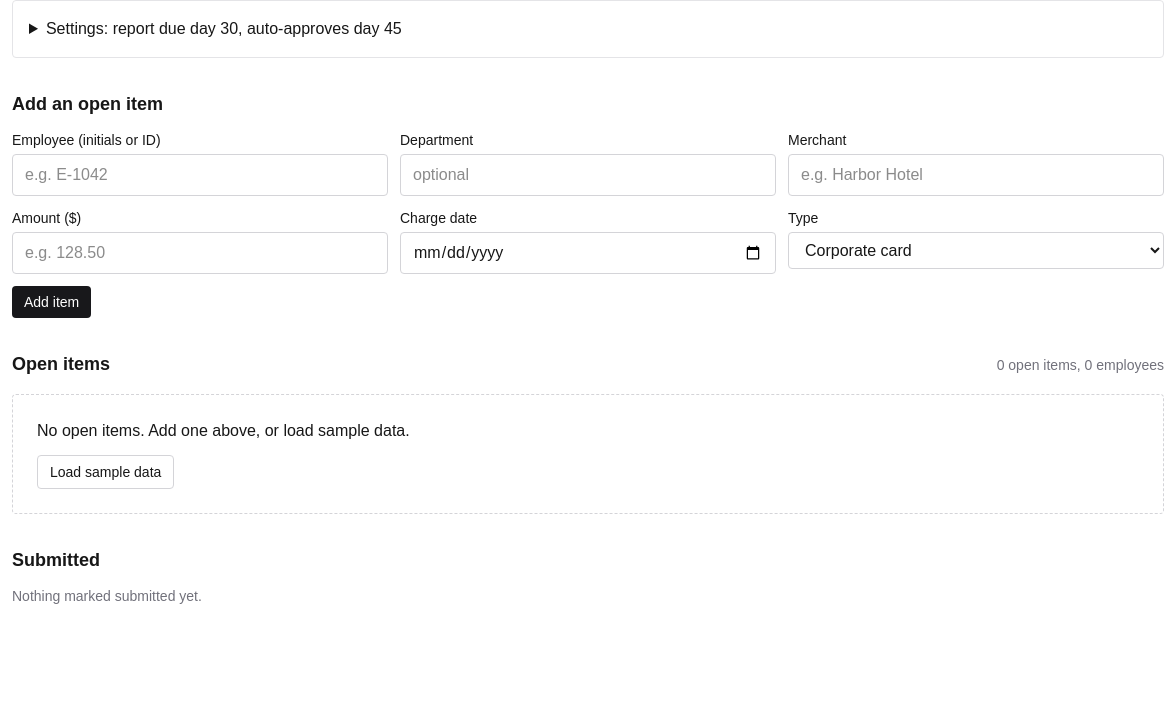
Test case: Tracker › writes a reminder and reports a failed copy (S2 criteria 1 and 5)
The image size is (1176, 720).
Expected: the heading "Add an open item" is shown, [12, 94, 163, 114]
In the field labelled "Employee (initials or ID)": x=200, y=175 [12, 154, 388, 196], type "E-7"
In the field labelled "Merchant": x=976, y=175 [788, 154, 1164, 196], type "Harbor Hotel"
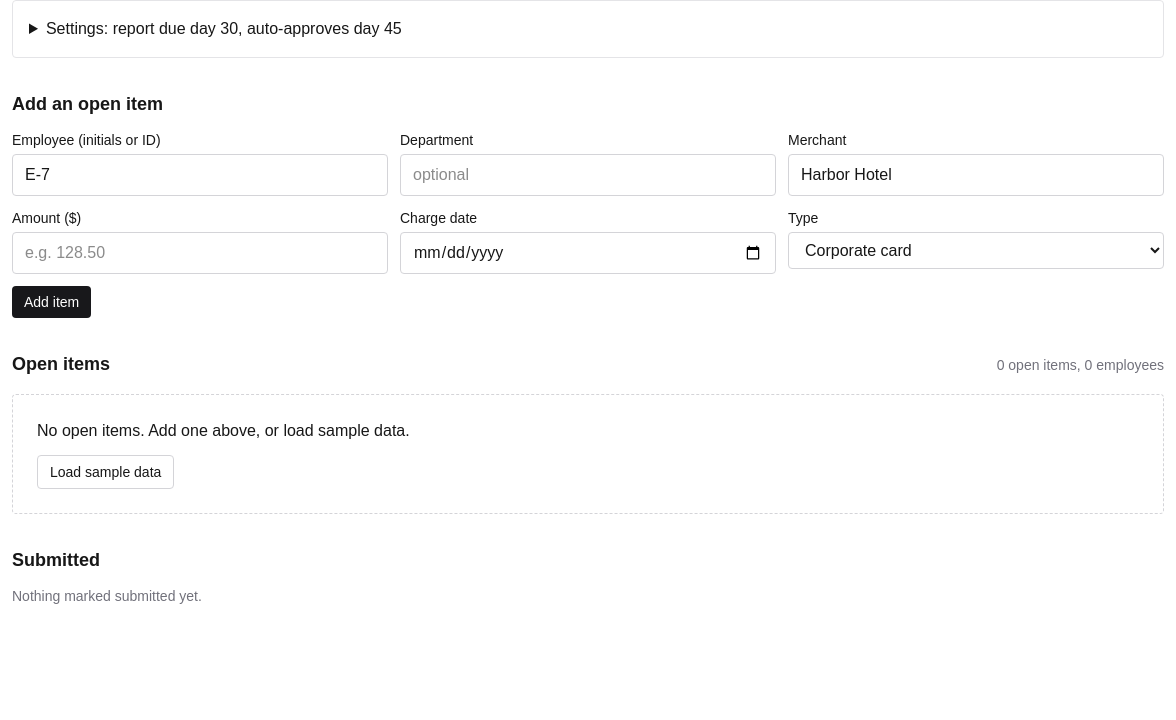
In the field labelled "Amount ($)": x=200, y=253 [12, 232, 388, 274], type "412.80"
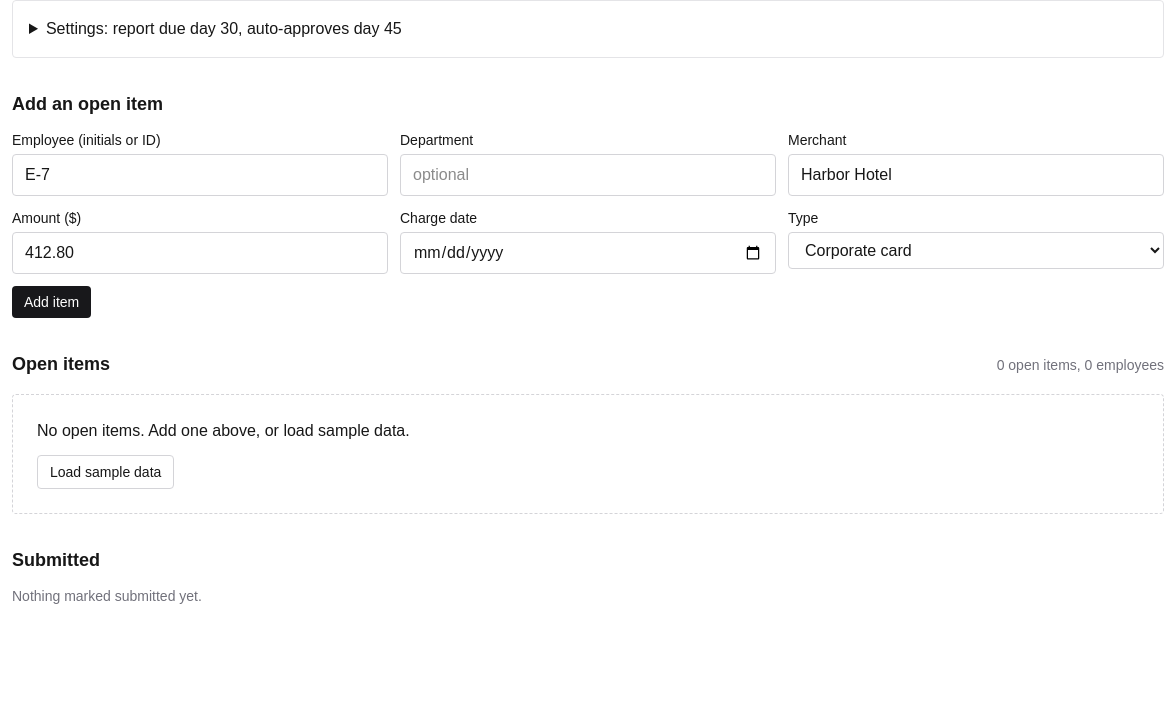
In the date field labelled "Charge date": x=588, y=253 [400, 232, 776, 274], type "2026-10-09"
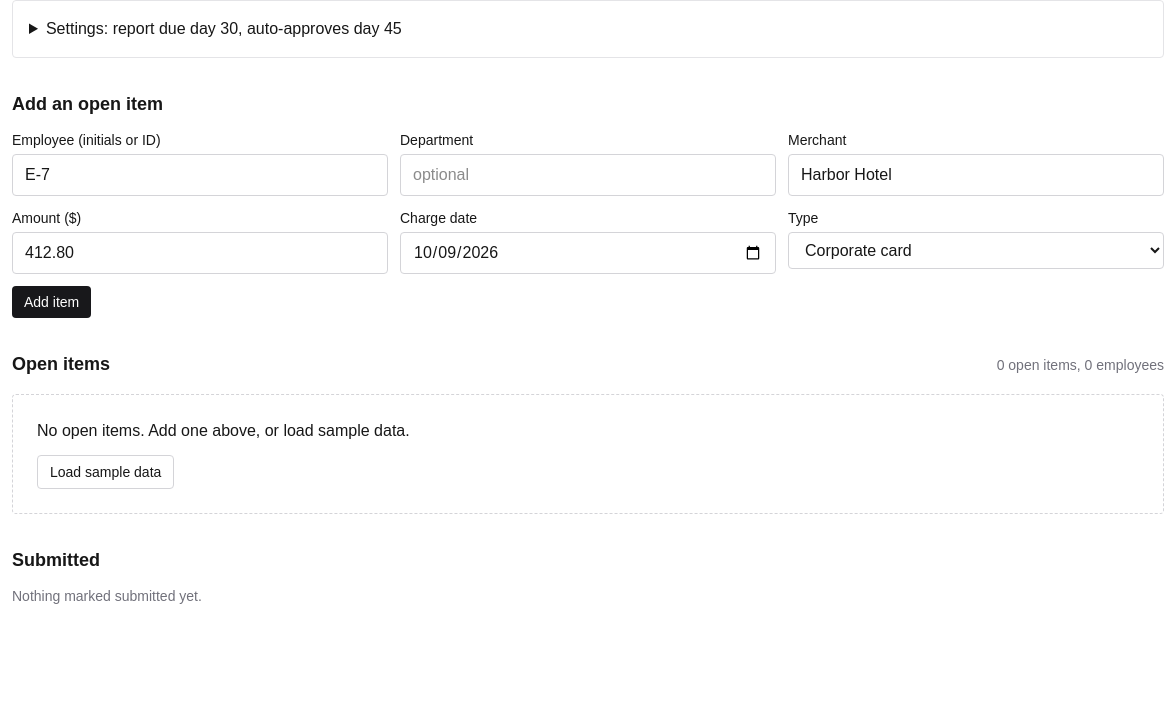
Click the button "Add item": x=52, y=302 [12, 286, 91, 318]
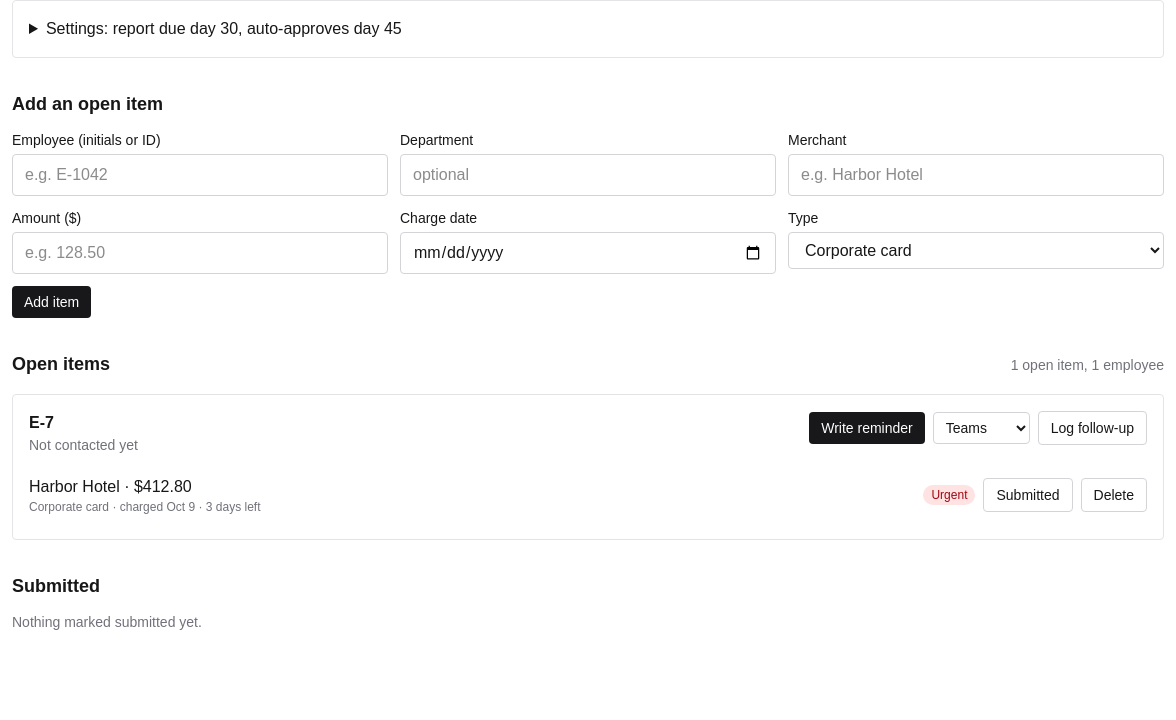
Result: the text "Harbor Hotel · $412.80" is shown at [29, 478, 192, 495]
Click the button "Write reminder": x=867, y=428 [809, 412, 925, 444]
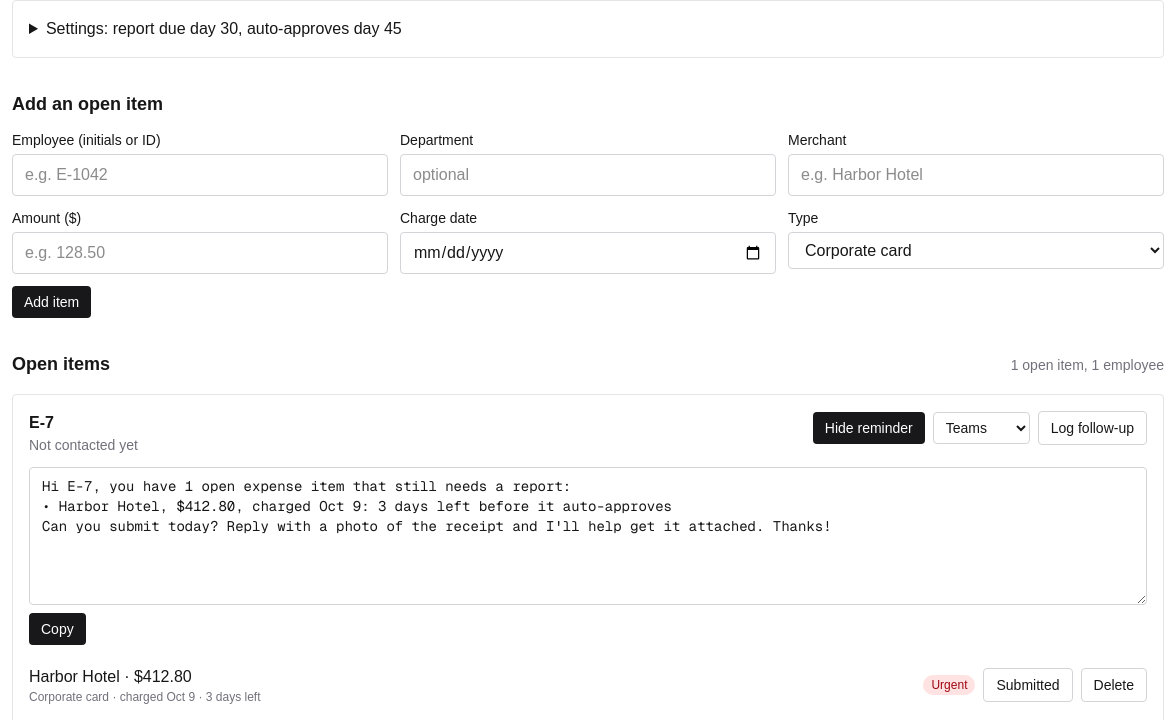
Click the button "Copy": x=57, y=629 [29, 613, 86, 645]
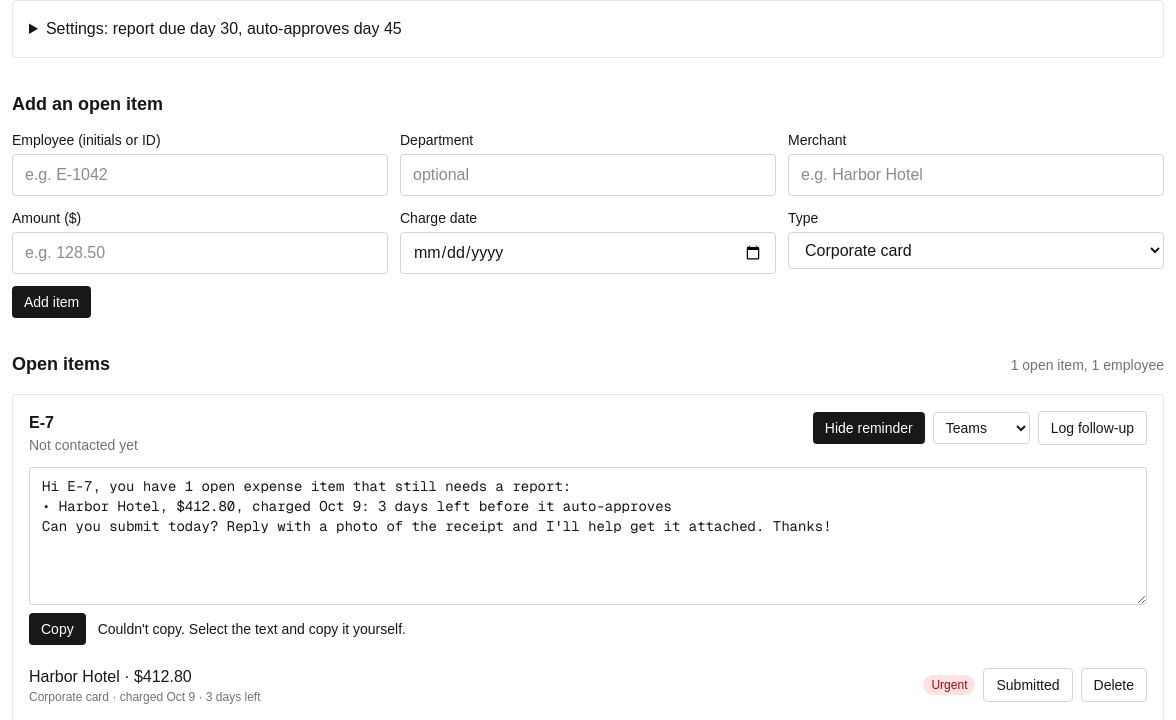
Result: the text "Couldn't copy. Select the text and copy it yourself." is shown at [98, 619, 406, 639]
